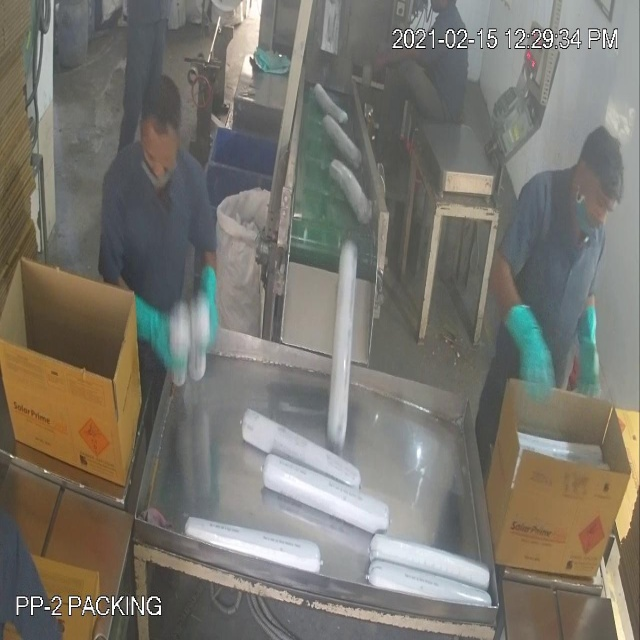Guantes: (502, 288, 562, 420), (121, 280, 185, 380), (564, 292, 612, 412), (187, 248, 226, 360)
